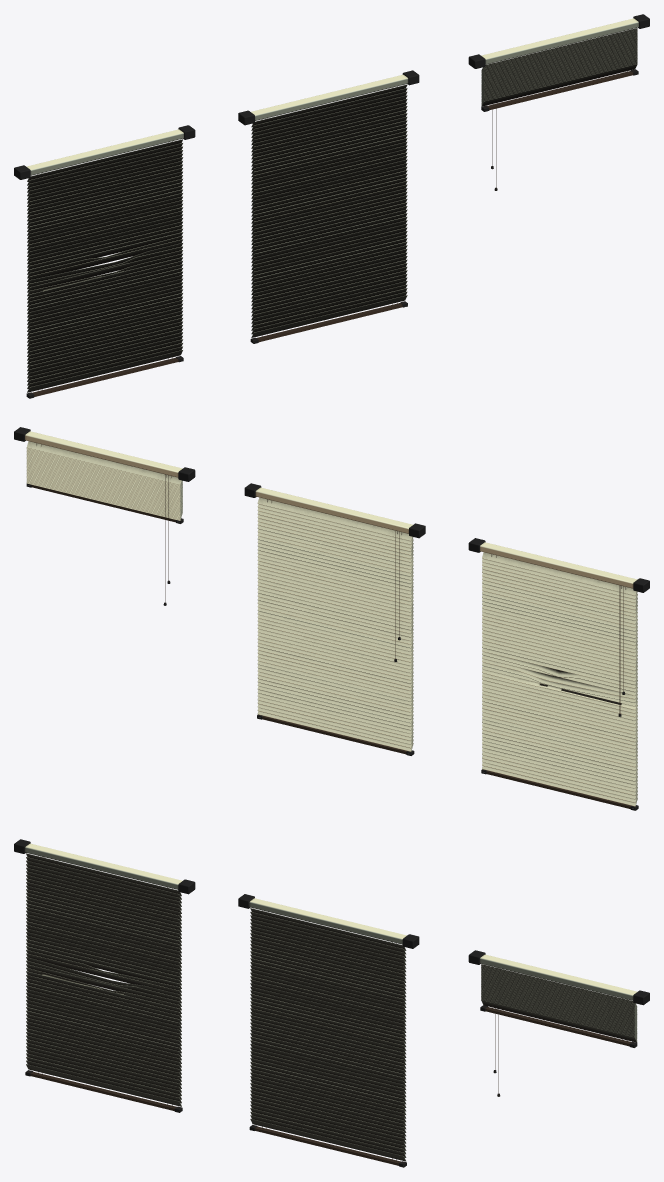
The model's file is blind.glb.
3 views of the same model, one above another, from view 1: azimuth 30°, elevation 25°; view 2: azimuth 150°, elevation 25°; view 3: azimuth 330°, elevation 25° (orthographic).
Parts seen in each view (by area): view 1: 02_Mat_0, 01_Mat_0, 03_Mat_0; view 2: 02_Mat_0, 01_Mat_0, 03_Mat_0; view 3: 02_Mat_0, 01_Mat_0, 03_Mat_0.
Boxes of the visible parts, x1,y1,x2,y2 form: 02_Mat_0: [238, 70, 419, 343]; 01_Mat_0: [14, 125, 195, 398]; 03_Mat_0: [468, 14, 649, 190]; 02_Mat_0: [244, 483, 425, 755]; 01_Mat_0: [468, 538, 649, 810]; 03_Mat_0: [14, 427, 195, 605]; 02_Mat_0: [238, 894, 419, 1167]; 01_Mat_0: [14, 839, 195, 1112]; 03_Mat_0: [468, 950, 649, 1096].
Size of the model in its own units: 5.9 by 2.06 by 0.1072.
1 material, 1 textured.
